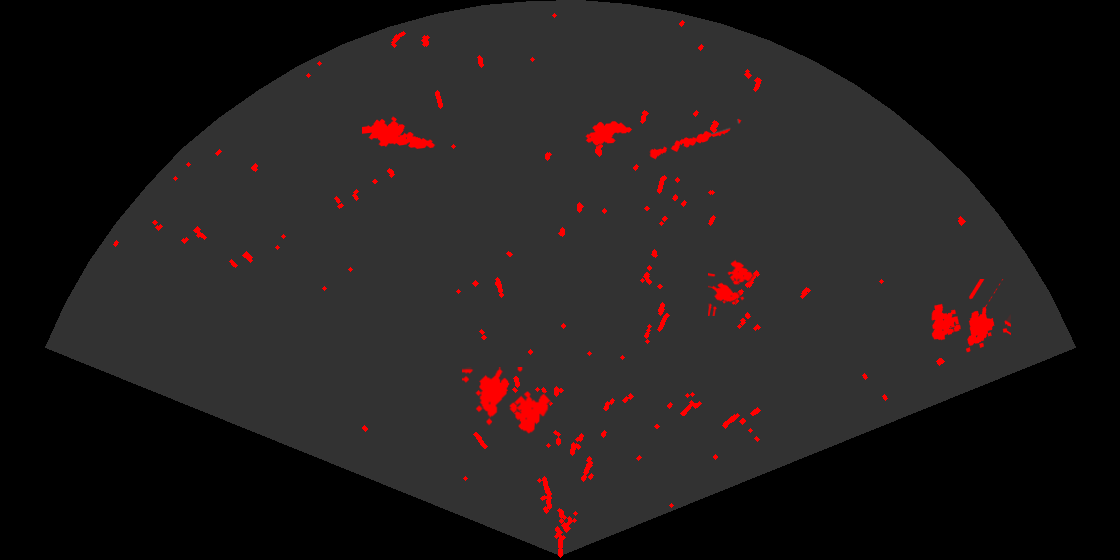AUV: (584, 120, 634, 147)
cage: (929, 279, 1011, 354), (462, 367, 552, 435), (708, 258, 755, 316)
chain: (648, 117, 743, 161)
frogman: (362, 115, 436, 151)
